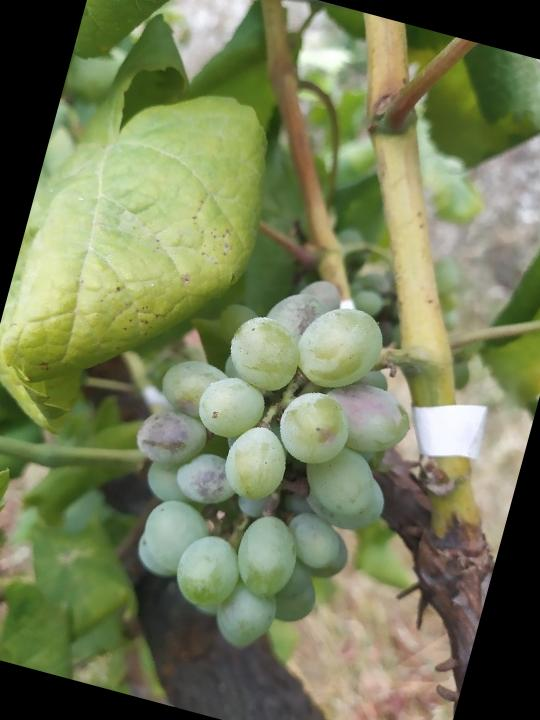grape: (86, 239, 445, 681)
